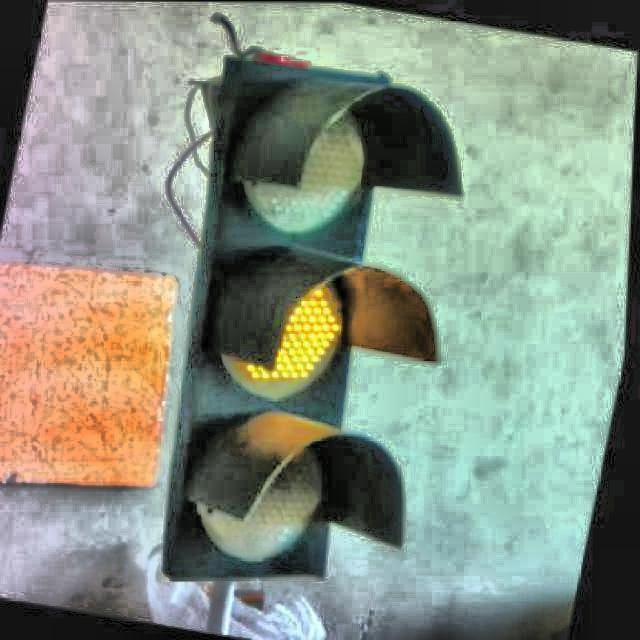yellow: (201, 64, 400, 593)
